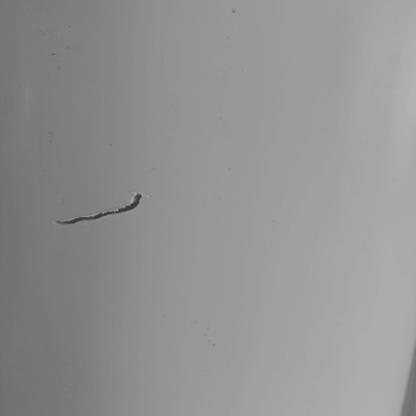fengxi: (51, 192, 149, 229)
